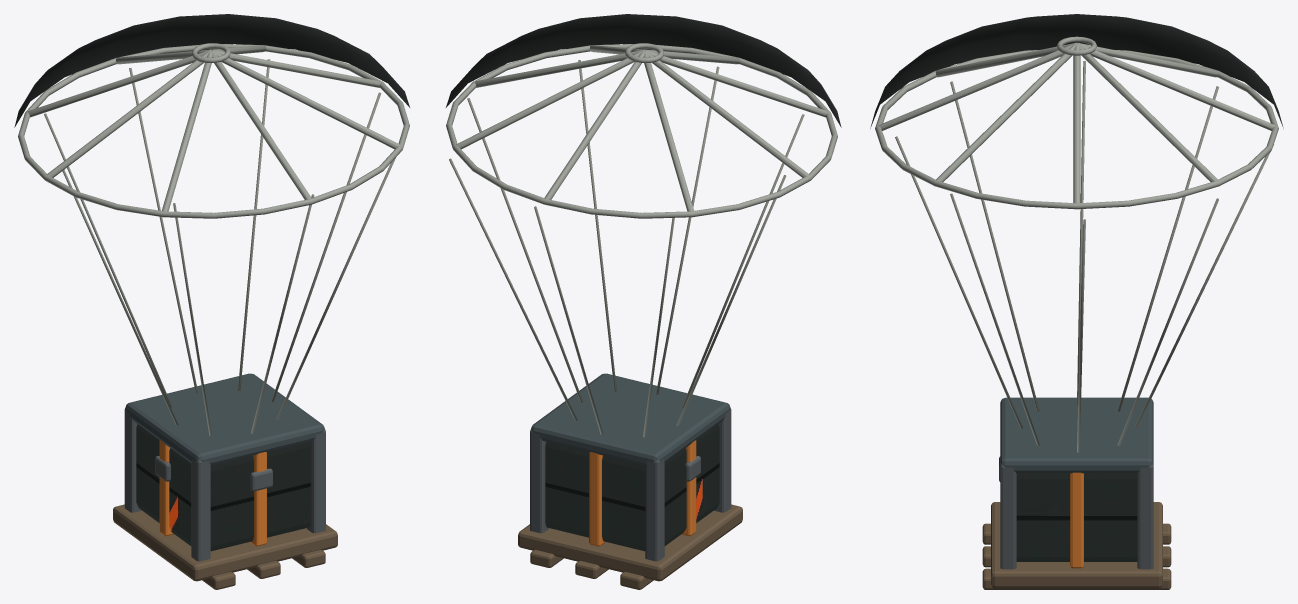
Rendered from pass65-care-crate-lod1.glb.
3 renders of one model, left to right at view 1: azimuth 30°, elevation 25°; view 2: azimuth 150°, elevation 25°; view 3: azimuth 270°, elevation 25°, orthographic. The views are drawn at different scales.
Visible parts, largest first — view 1: Care_CrateBody_LOD1, Care_CrateLid_LOD1, Care_ParachuteCanopy_LOD1, Care_CratePallet_LOD1, Care_ParachuteSkirt_LOD1, Care_CrateCornerGuard_-1_-1_LOD1, Care_CrateCornerGuard_1_-1_LOD1, Care_ParachuteRib_7_LOD1, Care_ParachuteRib_4_LOD1, Care_ParachuteRib_3_LOD1, Care_CrateCornerGuard_-1_1_LOD1, Care_ParachuteRib_6_LOD1 (+13 smaller); view 2: Care_CrateBody_LOD1, Care_CrateLid_LOD1, Care_ParachuteCanopy_LOD1, Care_CratePallet_LOD1, Care_ParachuteSkirt_LOD1, Care_CrateCornerGuard_-1_1_LOD1, Care_CrateCornerGuard_1_1_LOD1, Care_ParachuteRib_1_LOD1, Care_ParachuteRib_4_LOD1, Care_ParachuteRib_5_LOD1, Care_CrateCornerGuard_-1_-1_LOD1, Care_ParachuteRib_2_LOD1 (+13 smaller); view 3: Care_CrateLid_LOD1, Care_ParachuteCanopy_LOD1, Care_CrateBody_LOD1, Care_CratePallet_LOD1, Care_ParachuteSkirt_LOD1, Care_CrateCornerGuard_1_-1_LOD1, Care_CrateCornerGuard_1_1_LOD1, Care_ParachuteRib_6_LOD1, Care_ParachuteRib_2_LOD1, Care_ParachuteRib_7_LOD1, Care_ParachuteRib_1_LOD1, Care_CrateStrapX_LOD1 (+12 smaller).
Boxes of the visible parts, x1,y1,x2,y2 form: Care_CrateBody_LOD1: (136,424,310,551); Care_CrateLid_LOD1: (125,373,325,465); Care_ParachuteCanopy_LOD1: (14,14,409,127); Care_CratePallet_LOD1: (113,504,337,581); Care_ParachuteSkirt_LOD1: (18,43,409,218); Care_CrateCornerGuard_-1_-1_LOD1: (191,459,210,561); Care_CrateCornerGuard_1_-1_LOD1: (307,430,325,533); Care_ParachuteRib_7_LOD1: (212,50,399,149); Care_ParachuteRib_4_LOD1: (46,50,209,177); Care_ParachuteRib_3_LOD1: (27,50,210,117); Care_CrateCornerGuard_-1_1_LOD1: (124,407,141,512); Care_ParachuteRib_6_LOD1: (211,51,311,199); Care_CrateBody_LOD1: (545,424,719,551); Care_CrateLid_LOD1: (530,373,730,465); Care_ParachuteCanopy_LOD1: (446,14,841,127); Care_CratePallet_LOD1: (518,504,742,581); Care_ParachuteSkirt_LOD1: (446,43,837,218); Care_CrateCornerGuard_-1_1_LOD1: (645,459,664,561); Care_CrateCornerGuard_1_1_LOD1: (530,430,548,533); Care_ParachuteRib_1_LOD1: (456,50,643,149); Care_ParachuteRib_4_LOD1: (646,50,809,177); Care_ParachuteRib_5_LOD1: (645,50,828,117); Care_CrateCornerGuard_-1_-1_LOD1: (714,407,731,512); Care_ParachuteRib_2_LOD1: (544,51,644,199); Care_CrateLid_LOD1: (1000,397,1153,473); Care_ParachuteCanopy_LOD1: (870,14,1283,128); Care_CrateBody_LOD1: (1016,473,1137,561); Care_CratePallet_LOD1: (991,502,1162,588); Care_ParachuteSkirt_LOD1: (875,50,1278,209); Care_CrateCornerGuard_1_-1_LOD1: (1000,464,1016,569); Care_CrateCornerGuard_1_1_LOD1: (1137,464,1153,569); Care_ParachuteRib_6_LOD1: (878,43,1075,130); Care_ParachuteRib_2_LOD1: (1078,43,1275,130); Care_ParachuteRib_7_LOD1: (936,43,1075,181); Care_ParachuteRib_1_LOD1: (1078,43,1217,181); Care_CrateStrapX_LOD1: (1070,472,1083,568).
Size of the model in its own units: 3.56 by 4.87 by 3.56.
Materials: 8 (1 with a texture image).
